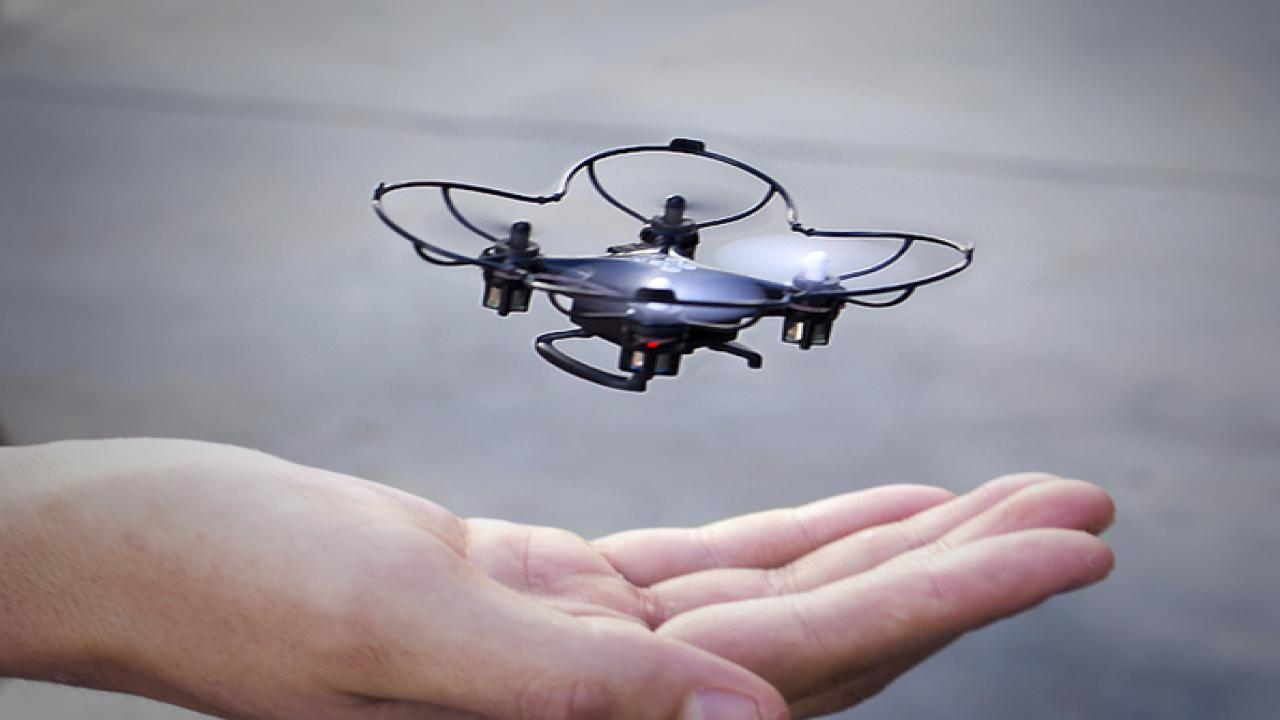Drone: (351, 115, 1012, 418)
